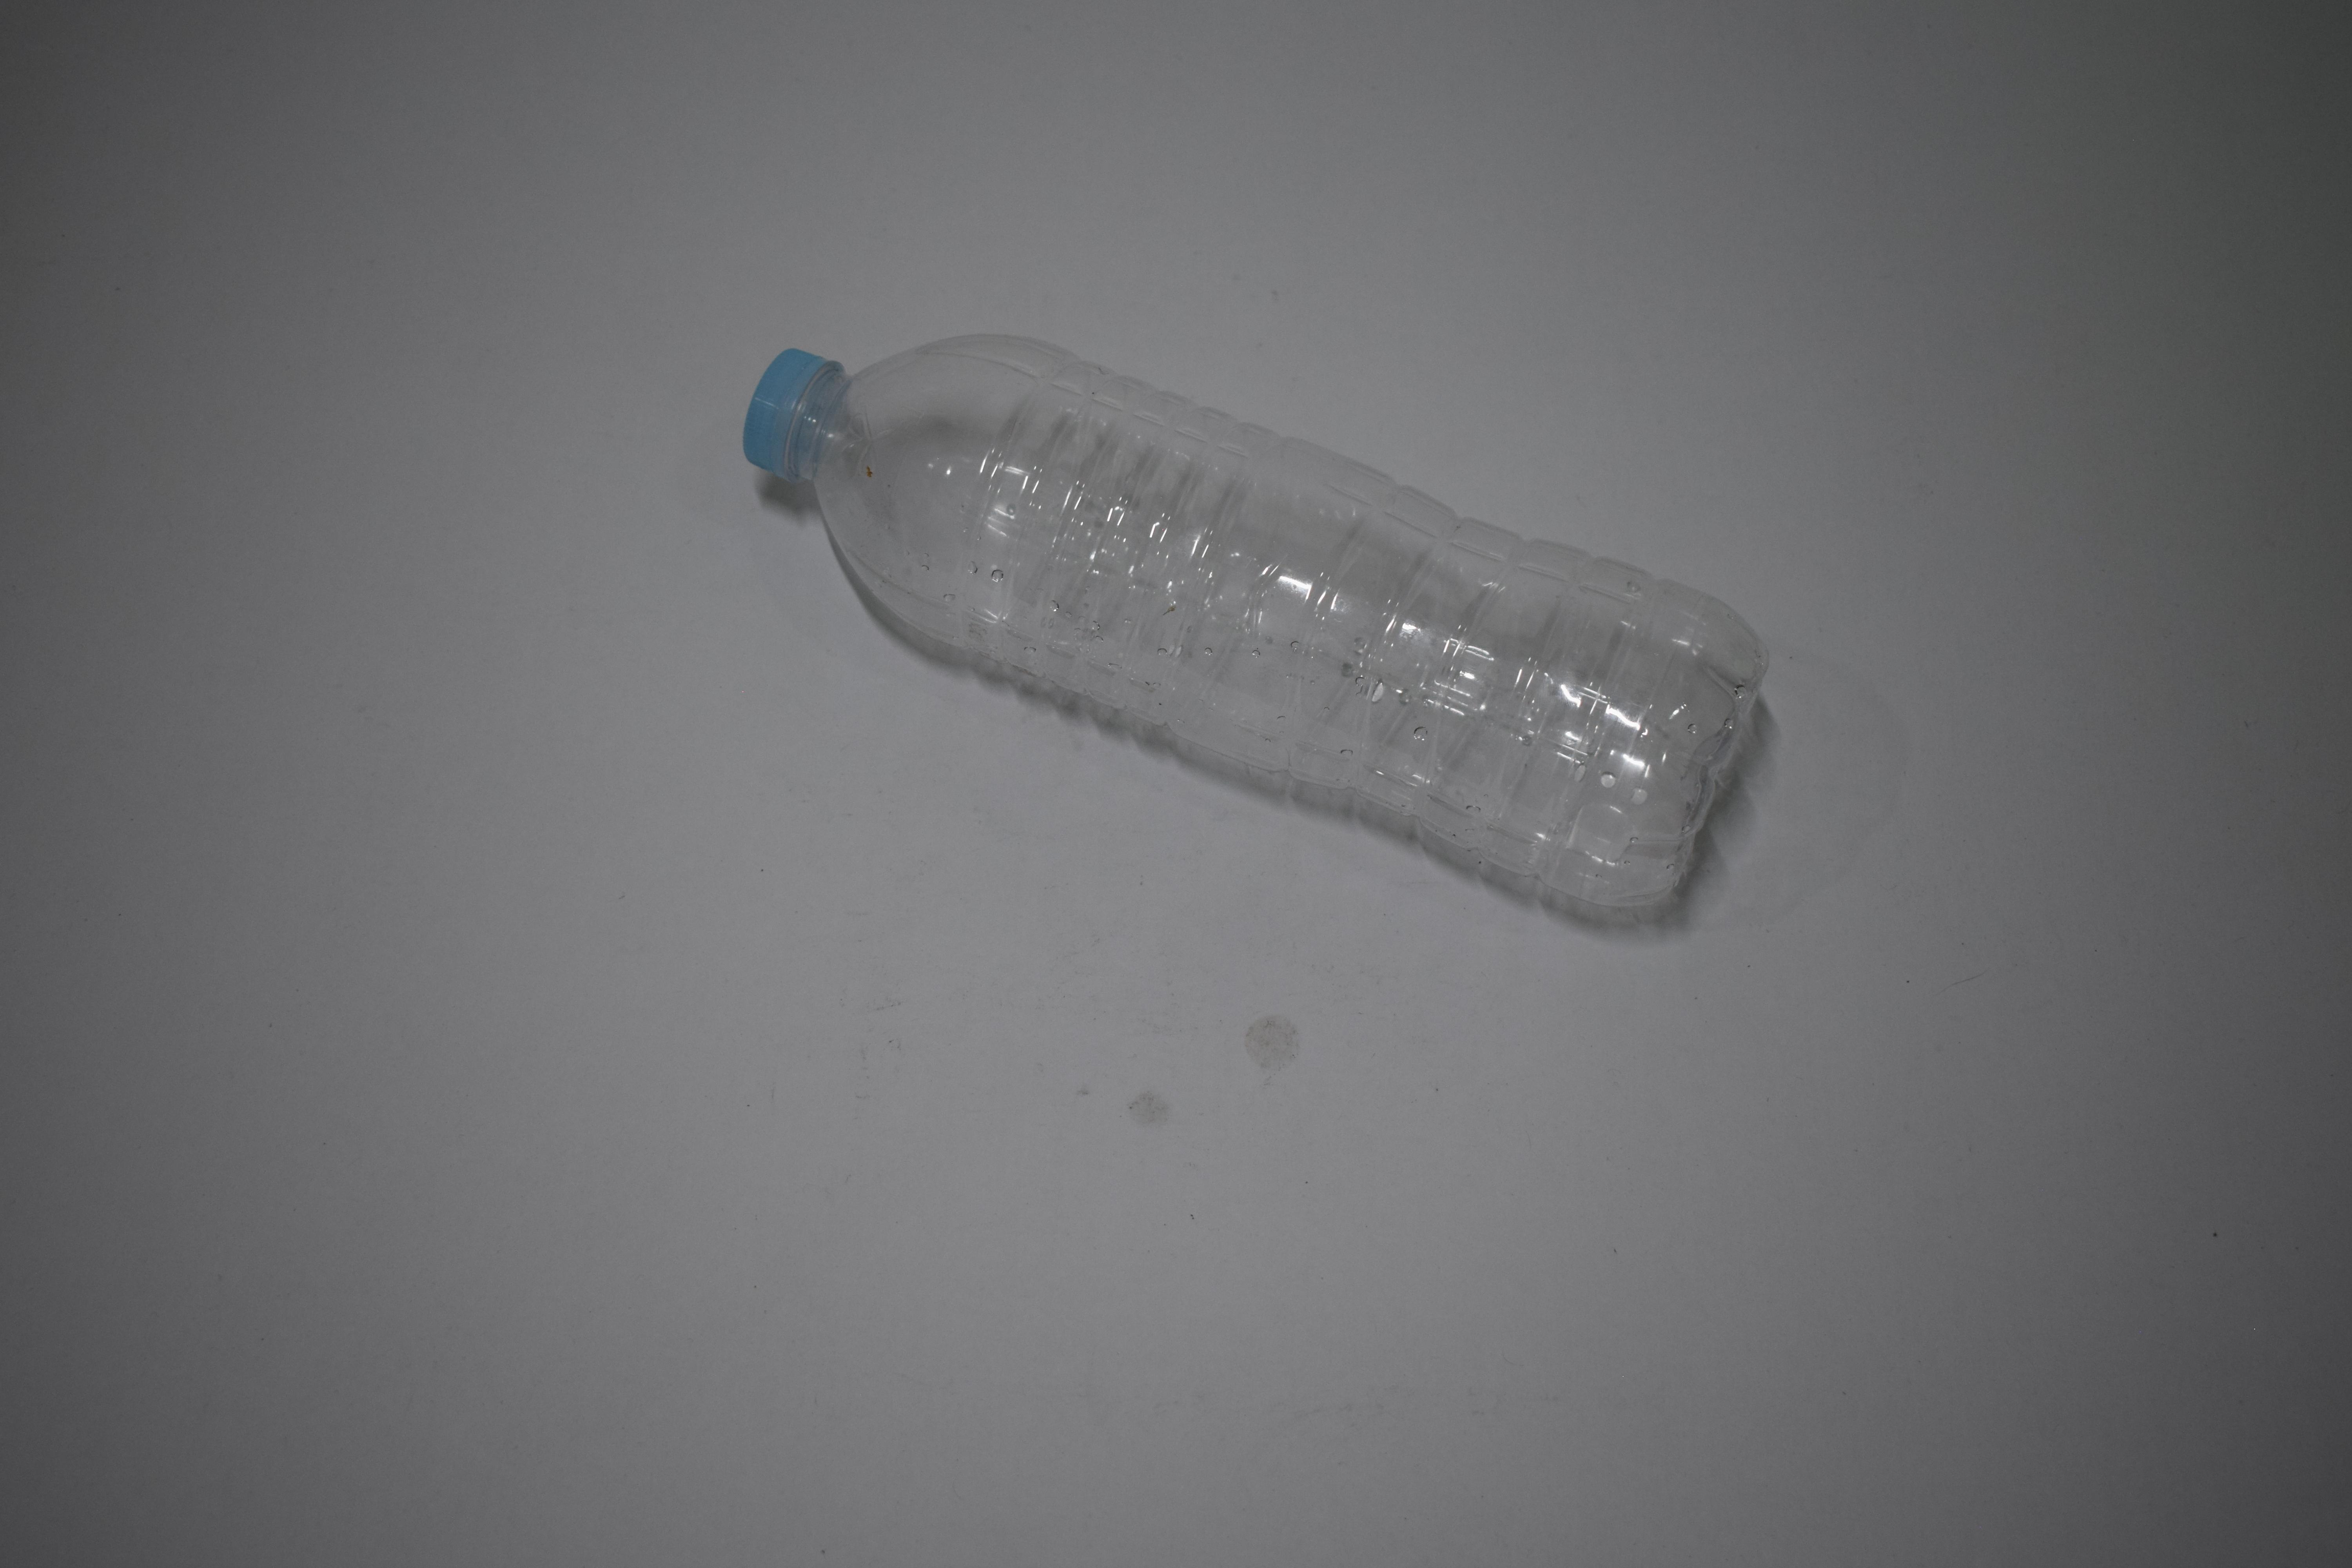bottle: (0, 318, 595, 933)
